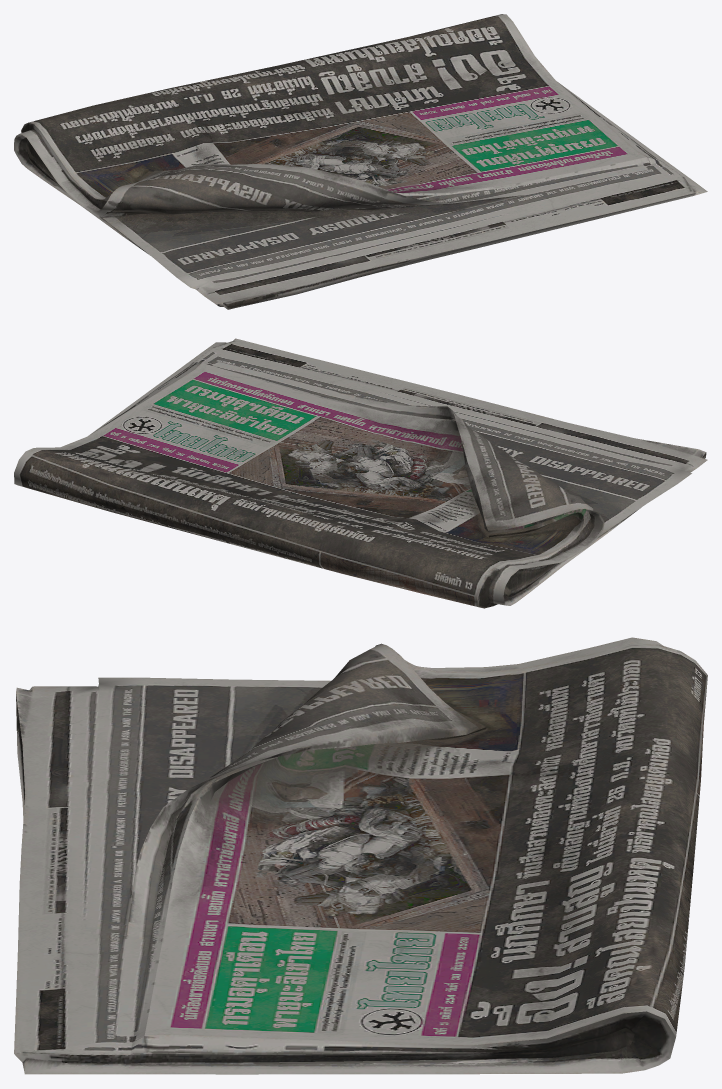
File: newsPaper02.FBX
The picture shows the model from 3 angles, top to bottom: view 1: azimuth 30°, elevation 25°; view 2: azimuth 150°, elevation 25°; view 3: azimuth 270°, elevation 25°; orthographic projection. The views are drawn at different scales.
Visible parts, largest first — view 1: SM_Newspaper02; view 2: SM_Newspaper02; view 3: SM_Newspaper02.
Part boxes in pixels (x1,y1,x2,y2): SM_Newspaper02: [14, 14, 707, 309]; SM_Newspaper02: [14, 338, 707, 608]; SM_Newspaper02: [14, 637, 707, 1074].
Bounding box in the file's own units: 43.97 × 3.74 × 33.34.
1 material, 1 textured.
